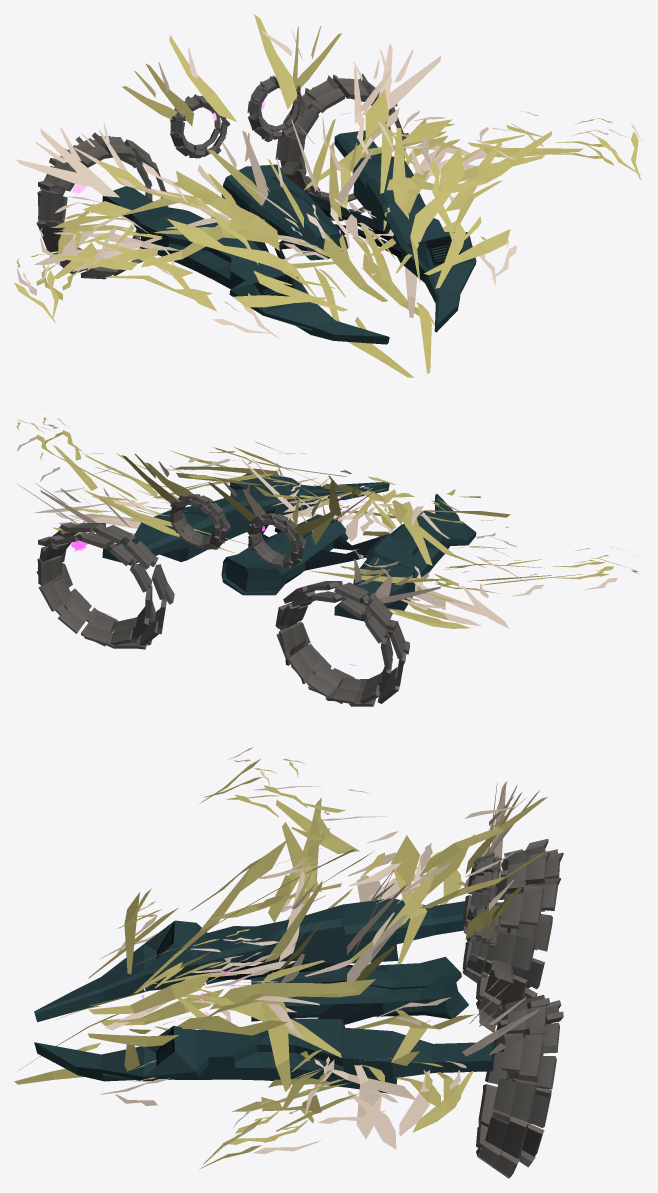
File: EnemyBoss.fbx
3 renders of one model, top to bottom at view 1: azimuth 30°, elevation 25°; view 2: azimuth 150°, elevation 25°; view 3: azimuth 270°, elevation 25°, orthographic. The views are drawn at different scales.
Visible parts, largest first — view 1: Parts, Base; view 2: Base, Parts; view 3: Base, Parts.
Boxes of the visible parts, x1,y1,x2,y2 form: Parts: (14,14,643,377); Base: (36,73,476,344); Base: (36,473,476,706); Parts: (16,406,639,628); Base: (34,839,563,1178); Parts: (14,747,547,1169).
Bounding box in the file's own units: 9.91 × 3.25 × 6.81.
